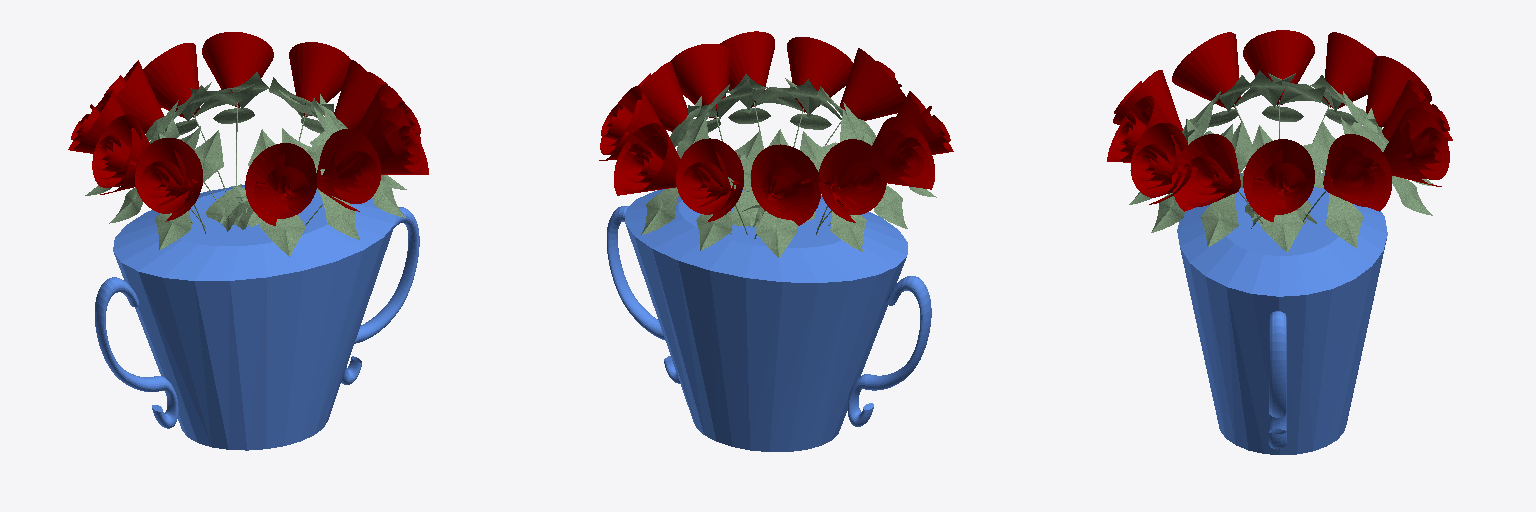
The picture shows the model from 3 angles: view 1: azimuth 30°, elevation 25°; view 2: azimuth 150°, elevation 25°; view 3: azimuth 270°, elevation 25°; orthographic projection.
Parts seen in each view (by area): view 1: Mesh169_Component_11_1_Model.001; view 2: Mesh169_Component_11_1_Model.001; view 3: Mesh169_Component_11_1_Model.001.
Boxes of the visible parts, x1,y1,x2,y2 form: Mesh169_Component_11_1_Model.001: [68, 32, 428, 450]; Mesh169_Component_11_1_Model.001: [599, 31, 953, 451]; Mesh169_Component_11_1_Model.001: [1107, 30, 1452, 454].
Bounding box in the file's own units: 0.6094 × 0.6065 × 0.5698.
4 materials, 1 textured.